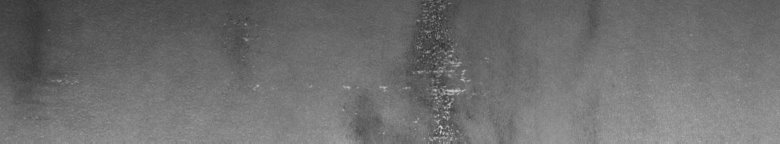hc: (343, 4, 486, 136)
